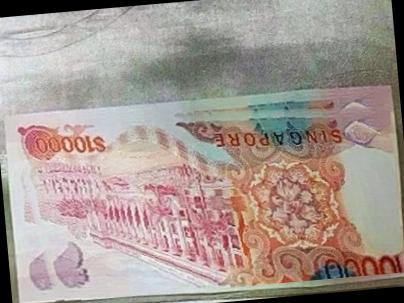10000SingaporeDollar: (8, 84, 404, 303)
